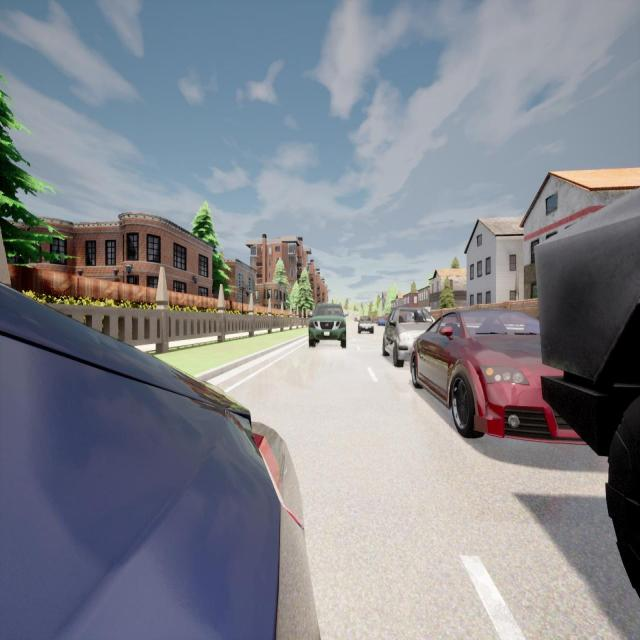Vehicle: (0, 284, 321, 639), (536, 188, 640, 595), (410, 306, 587, 445), (382, 308, 435, 366), (307, 302, 346, 347), (357, 316, 375, 335), (377, 318, 387, 326)
